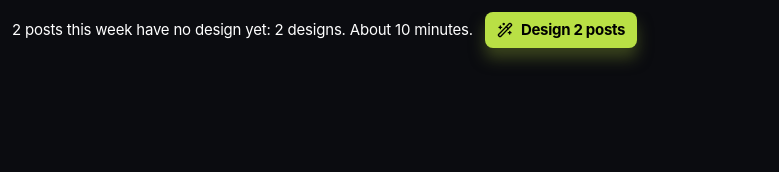
it: a press on the week band that gets no answer › says the week is not started yet, with no error, and keeps the button
Click the button "Design 2 posts": click(561, 30) [485,12,637,48]
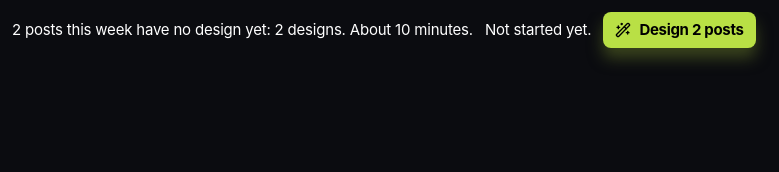
Check: the button "Design 2 posts" is enabled, box [603,12,756,48]
Check: the text "Not started yet." is shown, box [485,18,591,42]
